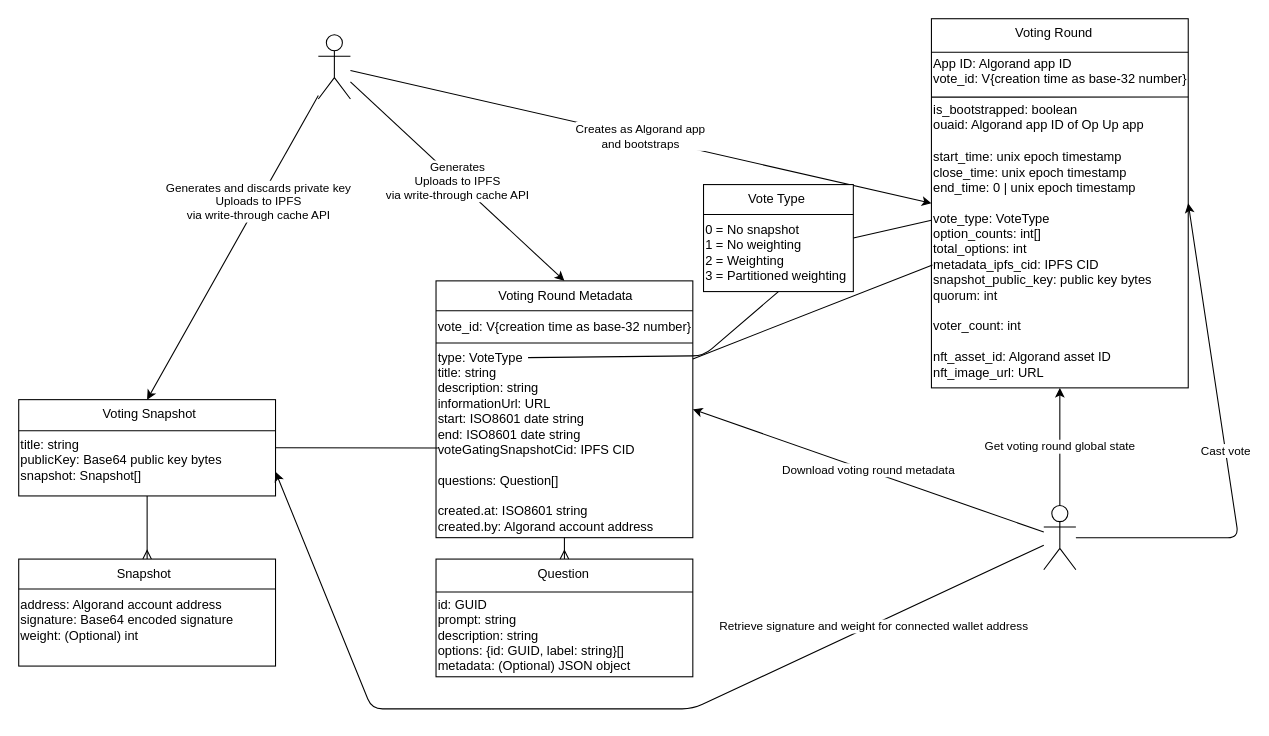
This 1269x736 diagram has some shape labels left out. The centre of each missing label's shape, as x and y in pixels:
"Vote creator" belongs at point (333, 66).
"Voter" belongs at point (1059, 537).
